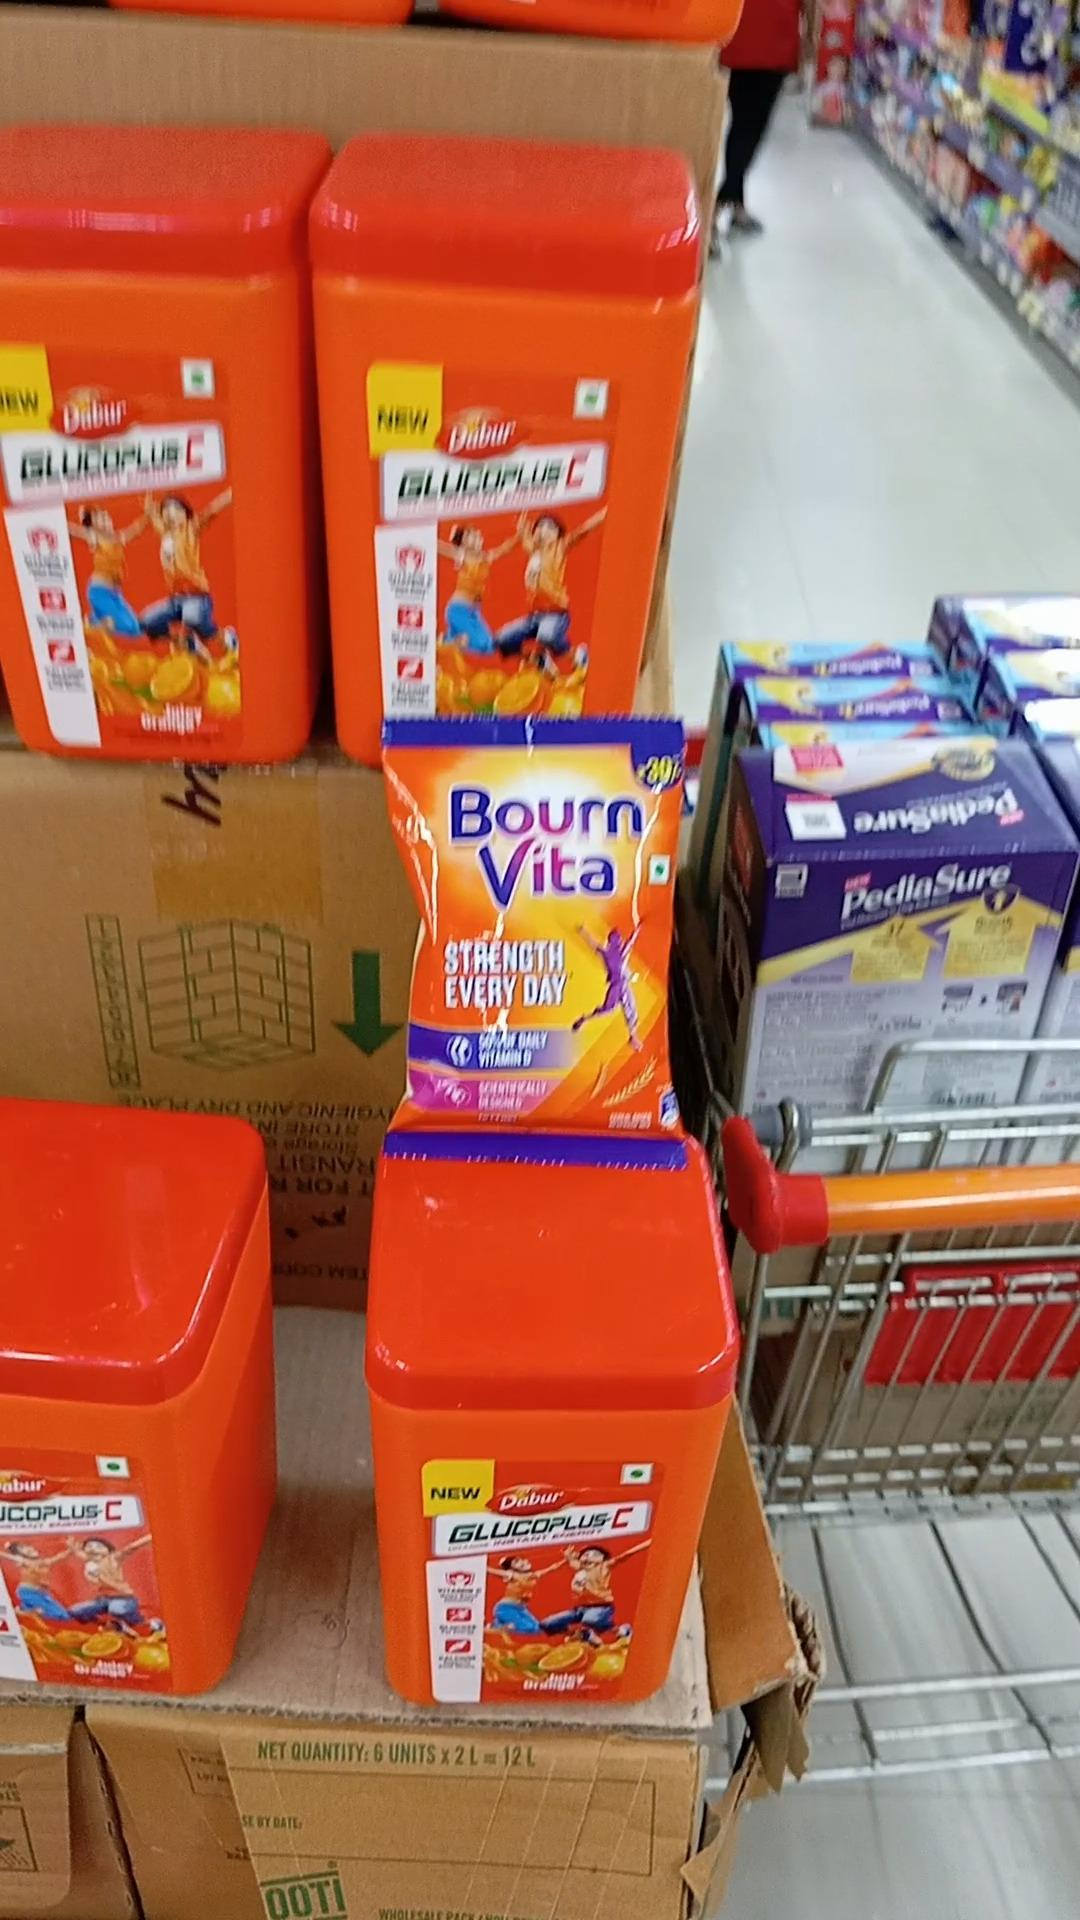BOURN_VITA_75_G_POUCH: (392, 716, 676, 1163)
